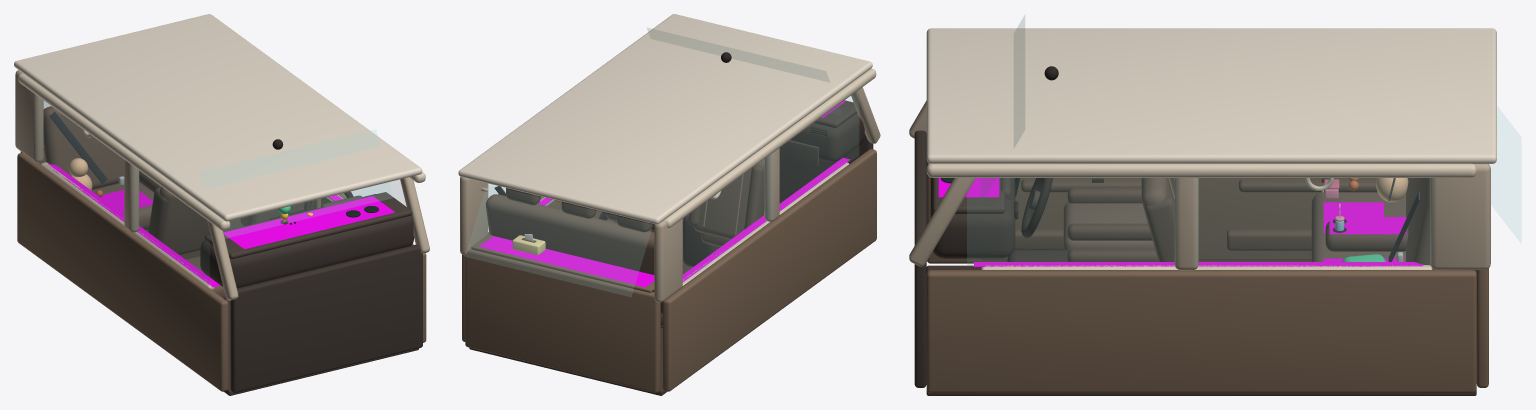
Rendered from Cabin.fbx.
3 renders of one model, left to right at view 1: azimuth 30°, elevation 25°; view 2: azimuth 150°, elevation 25°; view 3: azimuth 270°, elevation 25°, orthographic. The views are drawn at different scales.
Visible parts, largest first — view 1: Headliner, Firewall, LowerWall_-1, Glass_R, Dashboard, Glass_Front, Walk_Dashboard, RearSeatBack, RoofRail_-1, DashTop, SeatBack_FR, PillarC_-1 (+13 smaller); view 2: Headliner, LowerWall_-1, BackWall, Glass_Back, Glass_R, RearSeatBack, RoofRail_-1, SeatBack_FR, Walk_RearShelf, PillarC_-1, Dashboard, Glass_Front (+16 smaller); view 3: Headliner, LowerWall_1, Glass_L, RoofRail_1, DoorPanel_RR, PillarC_1, Dashboard, Firewall, Glass_Back, Seat_FR, RearSeat, PillarB_1 (+27 smaller).
Part boxes in pixels (box(x1,y1,x2,y2)): Headliner: box(14, 14, 422, 221); Firewall: box(230, 244, 422, 392); LowerWall_-1: box(17, 152, 228, 391); Glass_R: box(36, 95, 209, 286); Dashboard: box(200, 215, 413, 288); Glass_Front: box(200, 129, 392, 238); Walk_Dashboard: box(223, 196, 395, 249); RearSeatBack: box(43, 106, 124, 189); RoofRail_-1: box(18, 73, 230, 230); DashTop: box(205, 192, 412, 259); SeatBack_FR: box(159, 187, 210, 254); PillarC_-1: box(15, 70, 43, 162); Headliner: box(458, 14, 872, 224); LowerWall_-1: box(663, 149, 876, 391); BackWall: box(465, 248, 660, 392); Glass_Back: box(465, 185, 652, 296); Glass_R: box(683, 92, 858, 283); RearSeatBack: box(486, 194, 662, 314); RoofRail_-1: box(665, 68, 876, 228); SeatBack_FR: box(693, 159, 764, 239); Walk_RearShelf: box(479, 236, 654, 287); PillarC_-1: box(654, 219, 682, 302); Dashboard: box(790, 113, 864, 162); Glass_Front: box(647, 28, 841, 115); Headliner: box(926, 28, 1496, 163); LowerWall_1: box(926, 270, 1476, 392); Glass_L: box(967, 178, 1432, 265); RoofRail_1: box(926, 163, 1476, 177); DoorPanel_RR: box(1198, 178, 1376, 260); PillarC_1: box(1430, 164, 1490, 269); Dashboard: box(930, 177, 1015, 258); Firewall: box(914, 130, 926, 387); Glass_Back: box(1489, 106, 1520, 242); Seat_FR: box(1063, 202, 1154, 249); RearSeat: box(1311, 192, 1405, 261); PillarB_1: box(1174, 178, 1198, 270).
Size of the model in its own units: 1.58 by 1.47 by 3.04.
